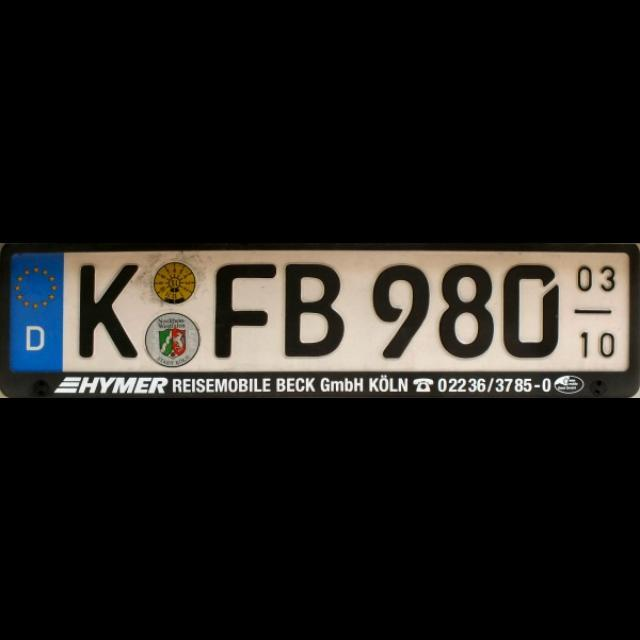license-plates: (8, 251, 640, 374)
